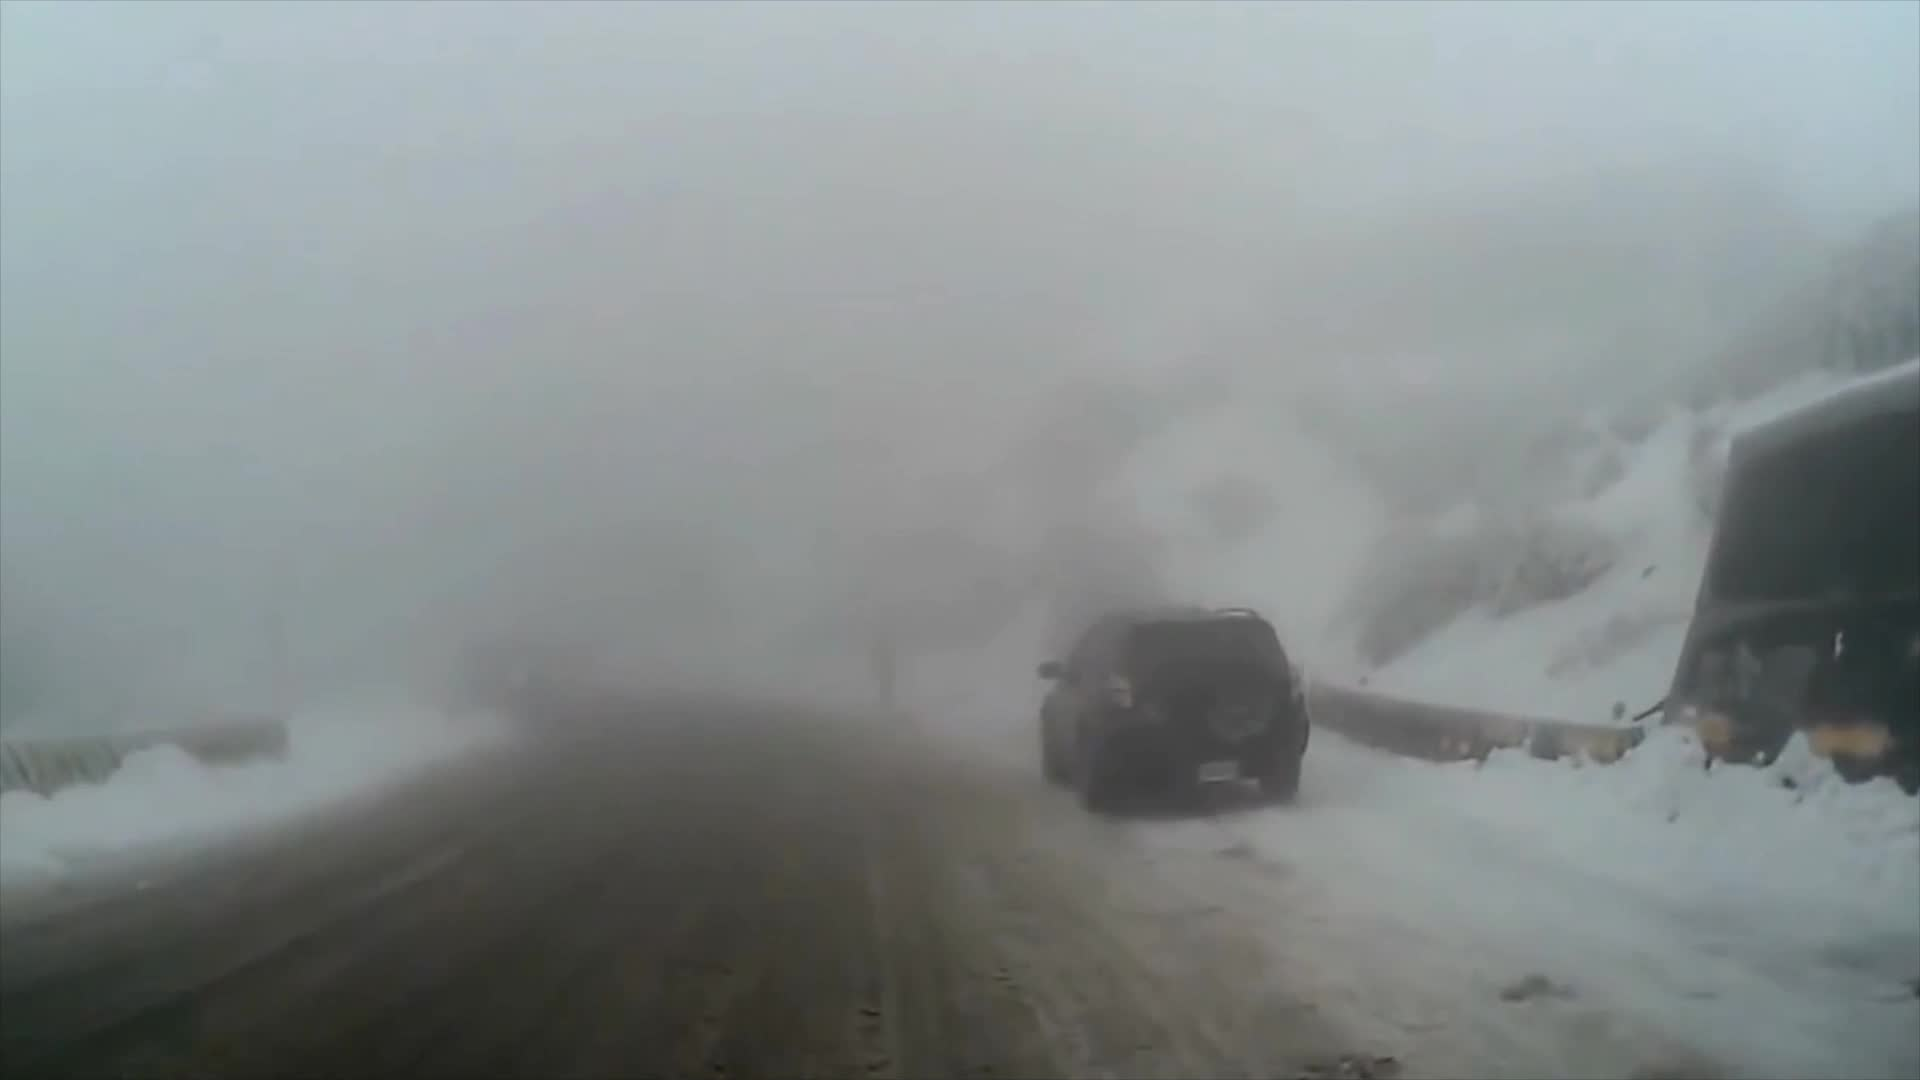vehicle: (1035, 603, 1313, 818)
